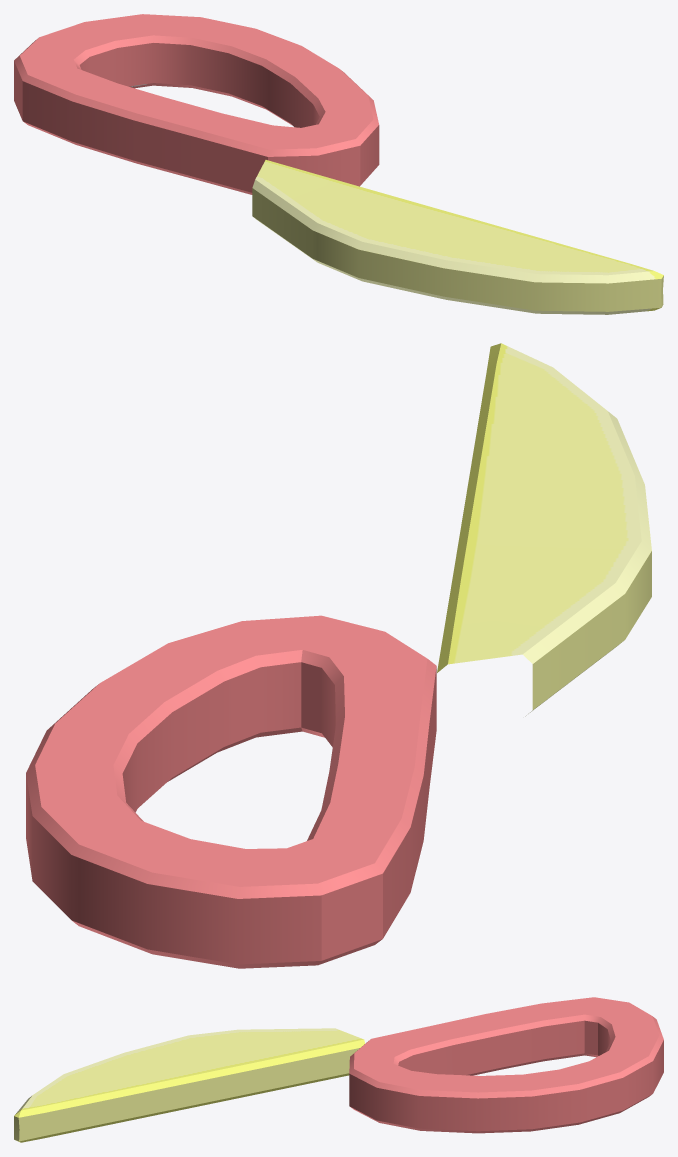
The model's file is ScissorsFirstModel.gltf.
3 views of the same model, one above another, from view 1: azimuth 30°, elevation 25°; view 2: azimuth 150°, elevation 25°; view 3: azimuth 270°, elevation 25° (orthographic). The views are drawn at different scales.
Parts seen in each view (by area): view 1: ScissorsFirstModel; view 2: ScissorsFirstModel; view 3: ScissorsFirstModel.
Part boxes in pixels (x1=…): ScissorsFirstModel: x1=14, y1=14, x2=663, y2=314; ScissorsFirstModel: x1=26, y1=343, x2=651, y2=968; ScissorsFirstModel: x1=14, y1=997, x2=663, y2=1142.
Bounding box in the file's own units: 0.7333 × 0.1224 × 1.76.
Materials: 1 (1 with a texture image).
